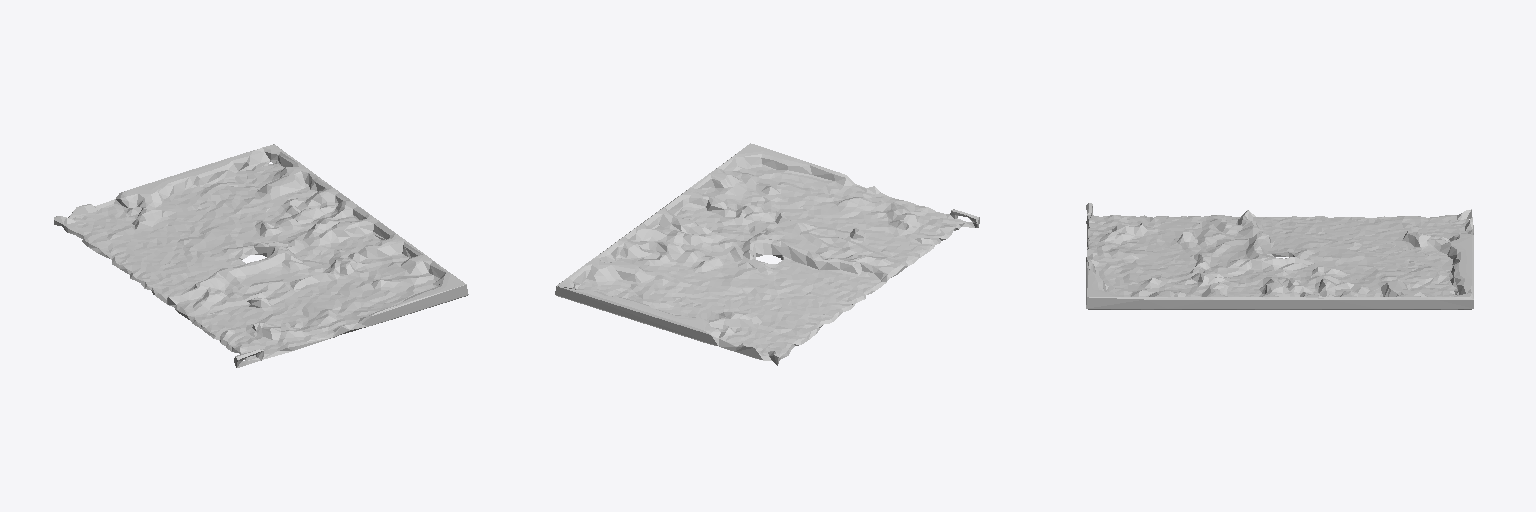
3 views of the same model, side by side, from view 1: azimuth 30°, elevation 25°; view 2: azimuth 150°, elevation 25°; view 3: azimuth 270°, elevation 25° (orthographic).
Parts seen in each view (by area): view 1: Liquid_Domain; view 2: Liquid_Domain; view 3: Liquid_Domain.
Boxes of the visible parts, <box> form: Liquid_Domain: <box>54,144,468,367</box>; Liquid_Domain: <box>555,143,979,365</box>; Liquid_Domain: <box>1086,203,1473,309</box>.
Bounding box in the file's own units: 116 × 13.7 × 168.